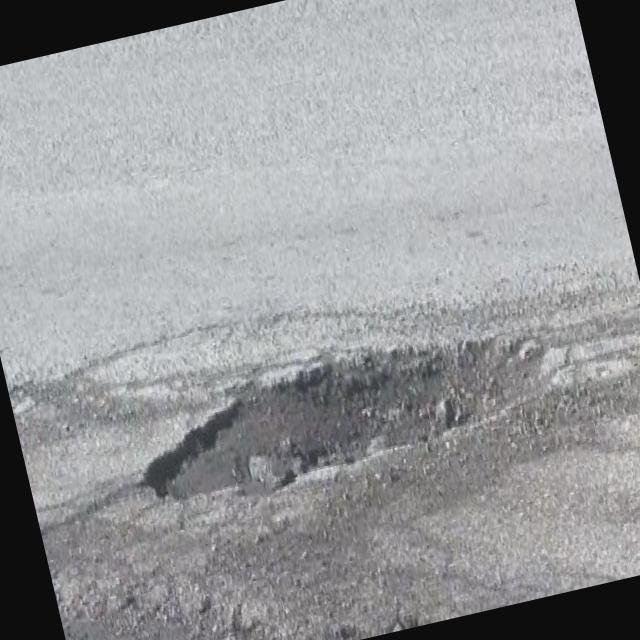Lubang: (143, 338, 538, 499)
